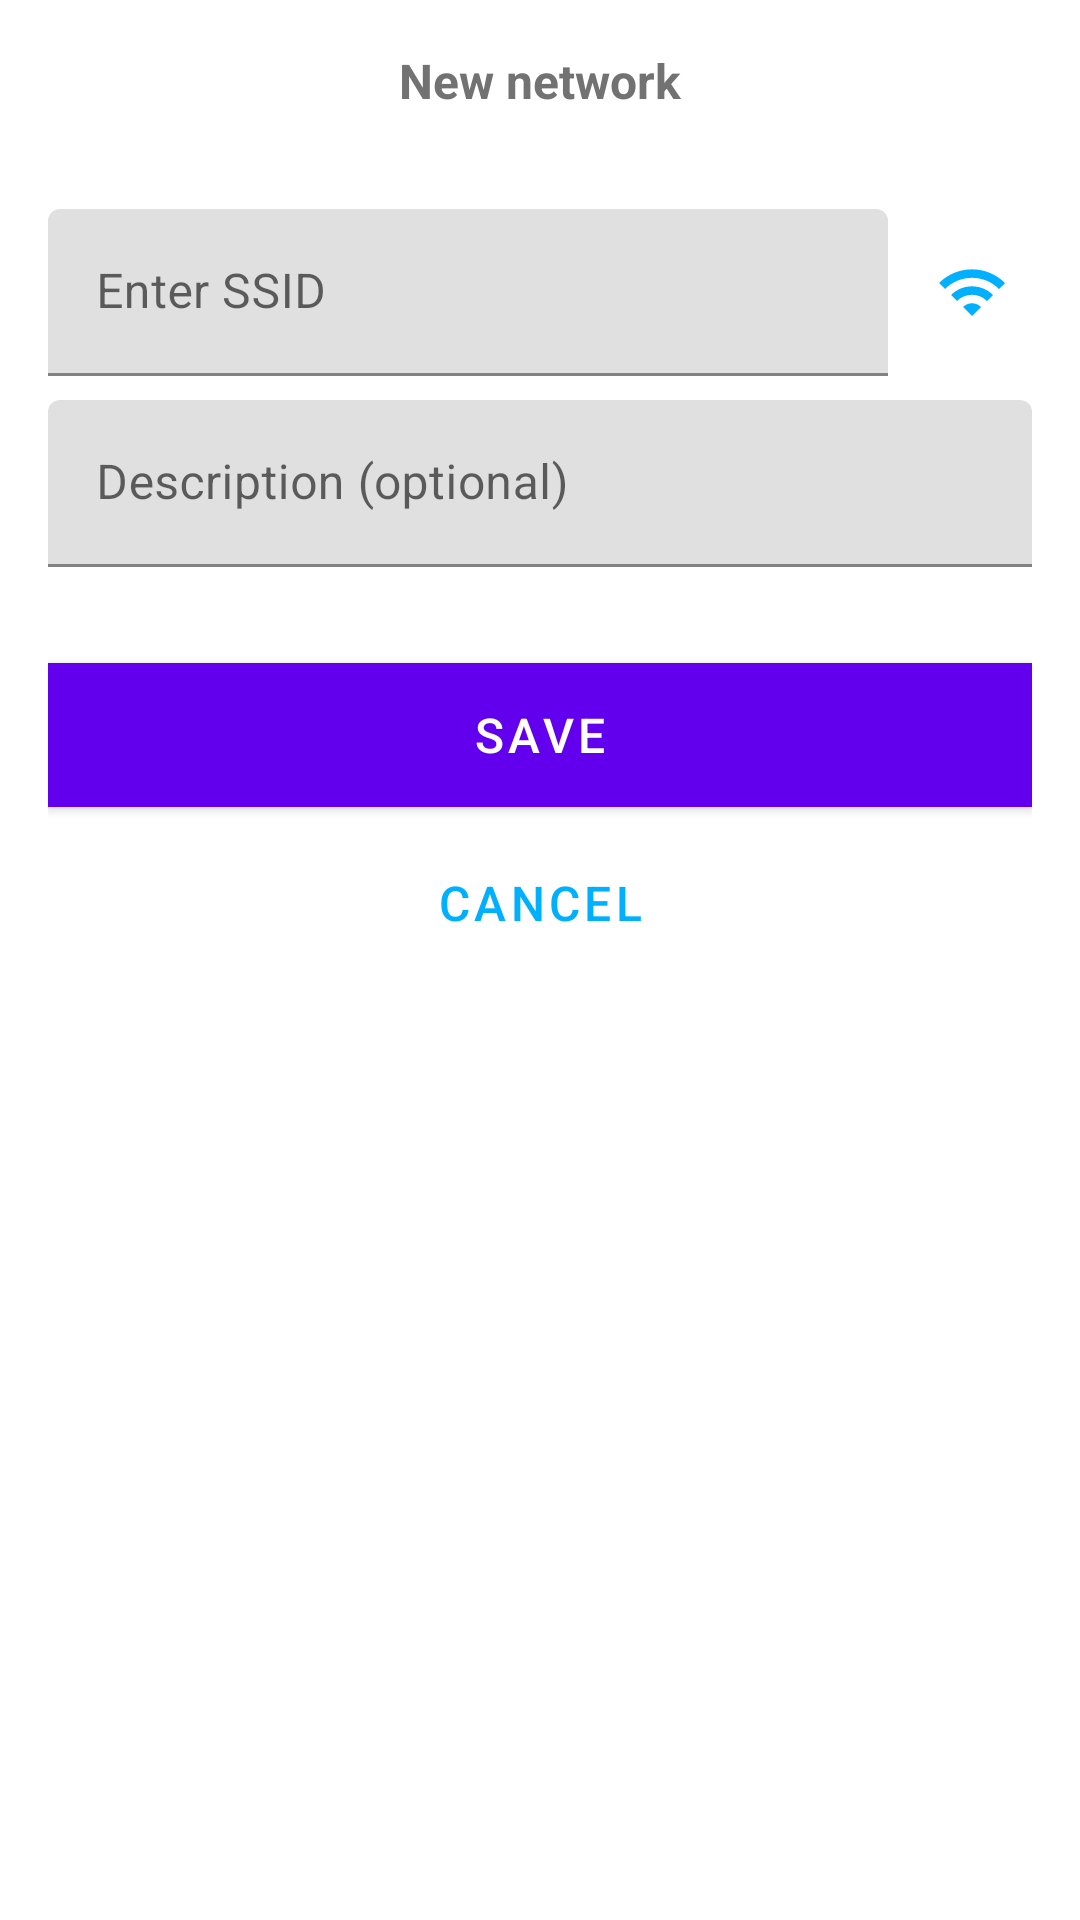

Icons on this 1080×1920 Android screen, each with the point to tap as point (x, y):
wifi: point (972, 292)
